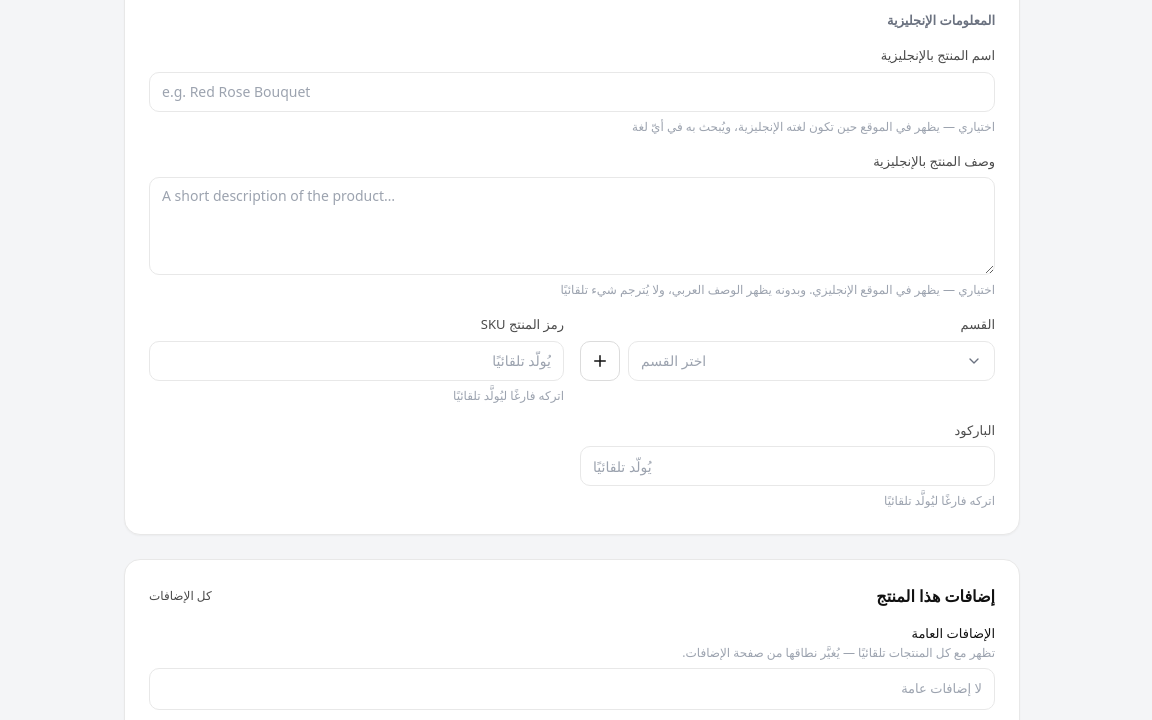
Test: القسمُ باسمين من شاشة المنتج › «إضافة قسم» يفتح حقلين — العربيّ والإنجليزيّ
(page scrolled)
Click the button named "إضافة قسم" at (600,360), box [580,340,620,380]
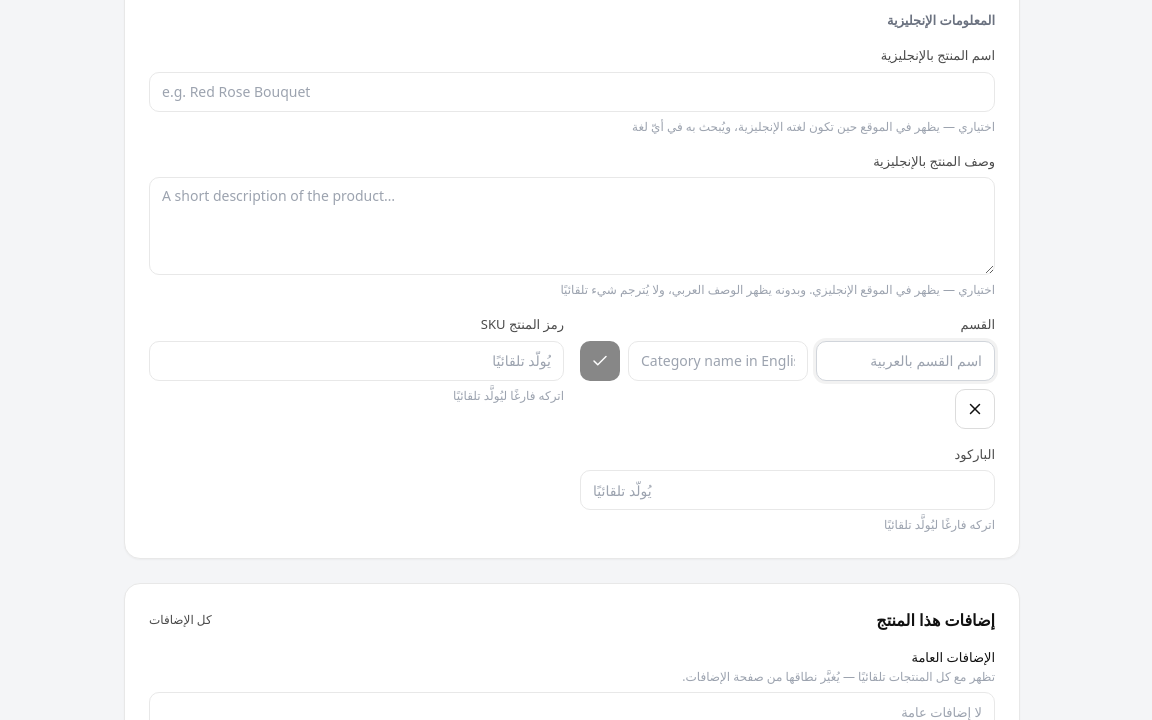
Expected: the field labelled "اسم القسم بالعربية" is shown, [816,340,995,380]
